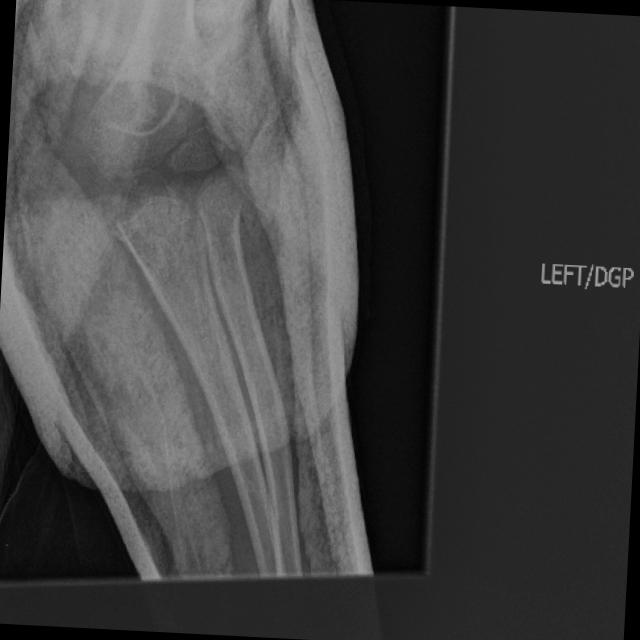elbow positive: (127, 53, 267, 200)
